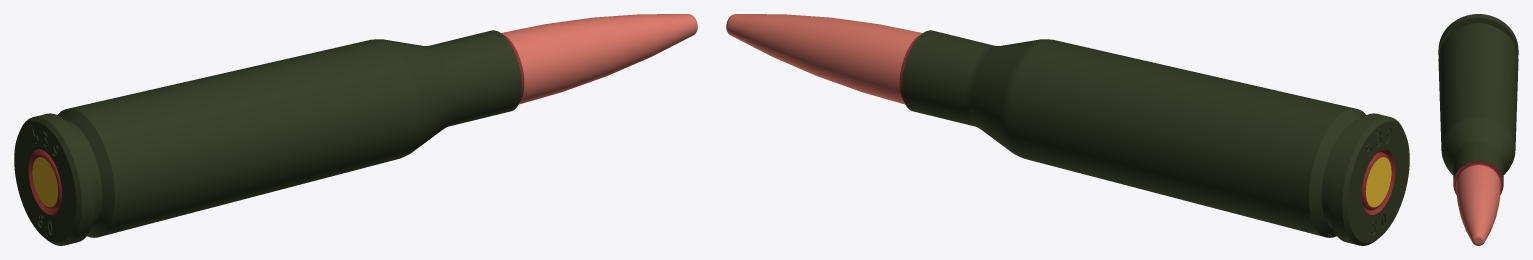
File: AKM 5x45.fbx
3 views of the same model, side by side, from view 1: azimuth 30°, elevation 25°; view 2: azimuth 150°, elevation 25°; view 3: azimuth 270°, elevation 25° (orthographic). The views are drawn at different scales.
Parts seen in each view (by area): view 1: ??????, ???????? ???????????????, ??????? ????????; view 2: ??????, ???????? ???????????????, ??????? ????????; view 3: ??????, ???????? ???????????????.
Boxes of the visible parts, left/top/right/bottom form: ??????: left=14, top=30, right=521, bottom=245; ???????? ???????????????: left=501, top=14, right=697, bottom=104; ??????? ????????: left=32, top=152, right=61, bottom=210; ??????: left=902, top=30, right=1409, bottom=245; ???????? ???????????????: left=726, top=14, right=922, bottom=104; ??????? ????????: left=1362, top=152, right=1391, bottom=210; ??????: left=1438, top=14, right=1518, bottom=195; ???????? ???????????????: left=1456, top=163, right=1500, bottom=245.
Bounding box in the file's own units: 5.67 × 1 × 1.
